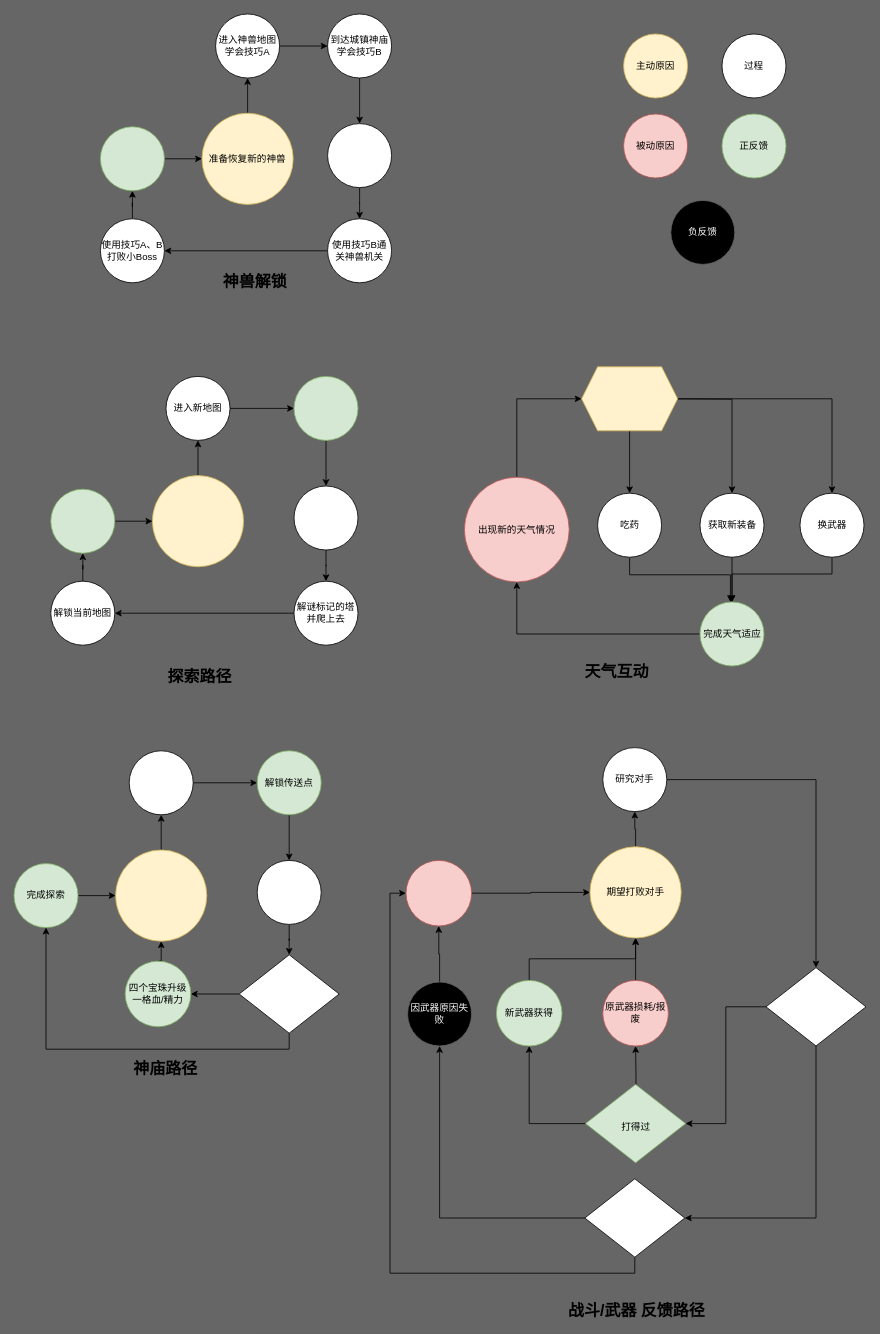
The diagram is 880 pixels wide and 1334 high, and some of its shapes have lost their labels. The shapes that lost their labels are listed below. From the top down, each one's box as (x1, y1, x2, y2) in pixels, then its label:
(100, 126, 164, 191): 恢复神兽力量
(327, 123, 392, 188): 使用技巧A解锁神兽地图
(293, 376, 358, 440): 适应新地图的天气
(581, 366, 678, 431): 尝试解决方案
(50, 488, 115, 553): 标记新地图的塔
(152, 475, 244, 567): 准备探索新地图
(293, 485, 358, 550): 到达标记的塔
(128, 750, 193, 815): 发现神庙
(115, 849, 207, 941): 期望探索/升级
(256, 860, 321, 924): 研究神庙
(405, 860, 472, 926): 更换对手
(238, 954, 339, 1033): 完成神庙，获得宝珠
(765, 967, 866, 1046): 是否打得过
(584, 1178, 685, 1257): 打不过
